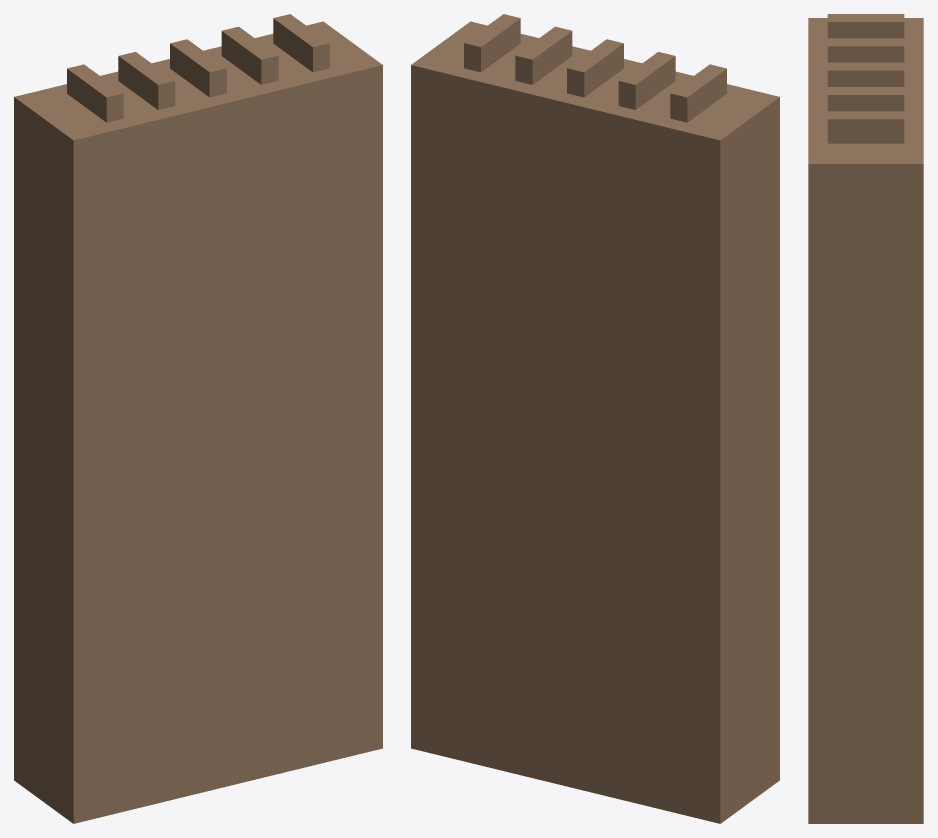
File: fu_bookshelf.glb
3 renders of one model, left to right at view 1: azimuth 30°, elevation 25°; view 2: azimuth 150°, elevation 25°; view 3: azimuth 270°, elevation 25°, orthographic. The views are drawn at different scales.
Parts seen in each view (by area): view 1: fu_bookshelf; view 2: fu_bookshelf; view 3: fu_bookshelf.
Boxes of the visible parts, left/top/right/bottom form: fu_bookshelf: left=14, top=14, right=382, bottom=823; fu_bookshelf: left=411, top=14, right=779, bottom=823; fu_bookshelf: left=808, top=14, right=923, bottom=823.
Bounding box in the file's own units: 0.9 × 1.97 × 0.3.
